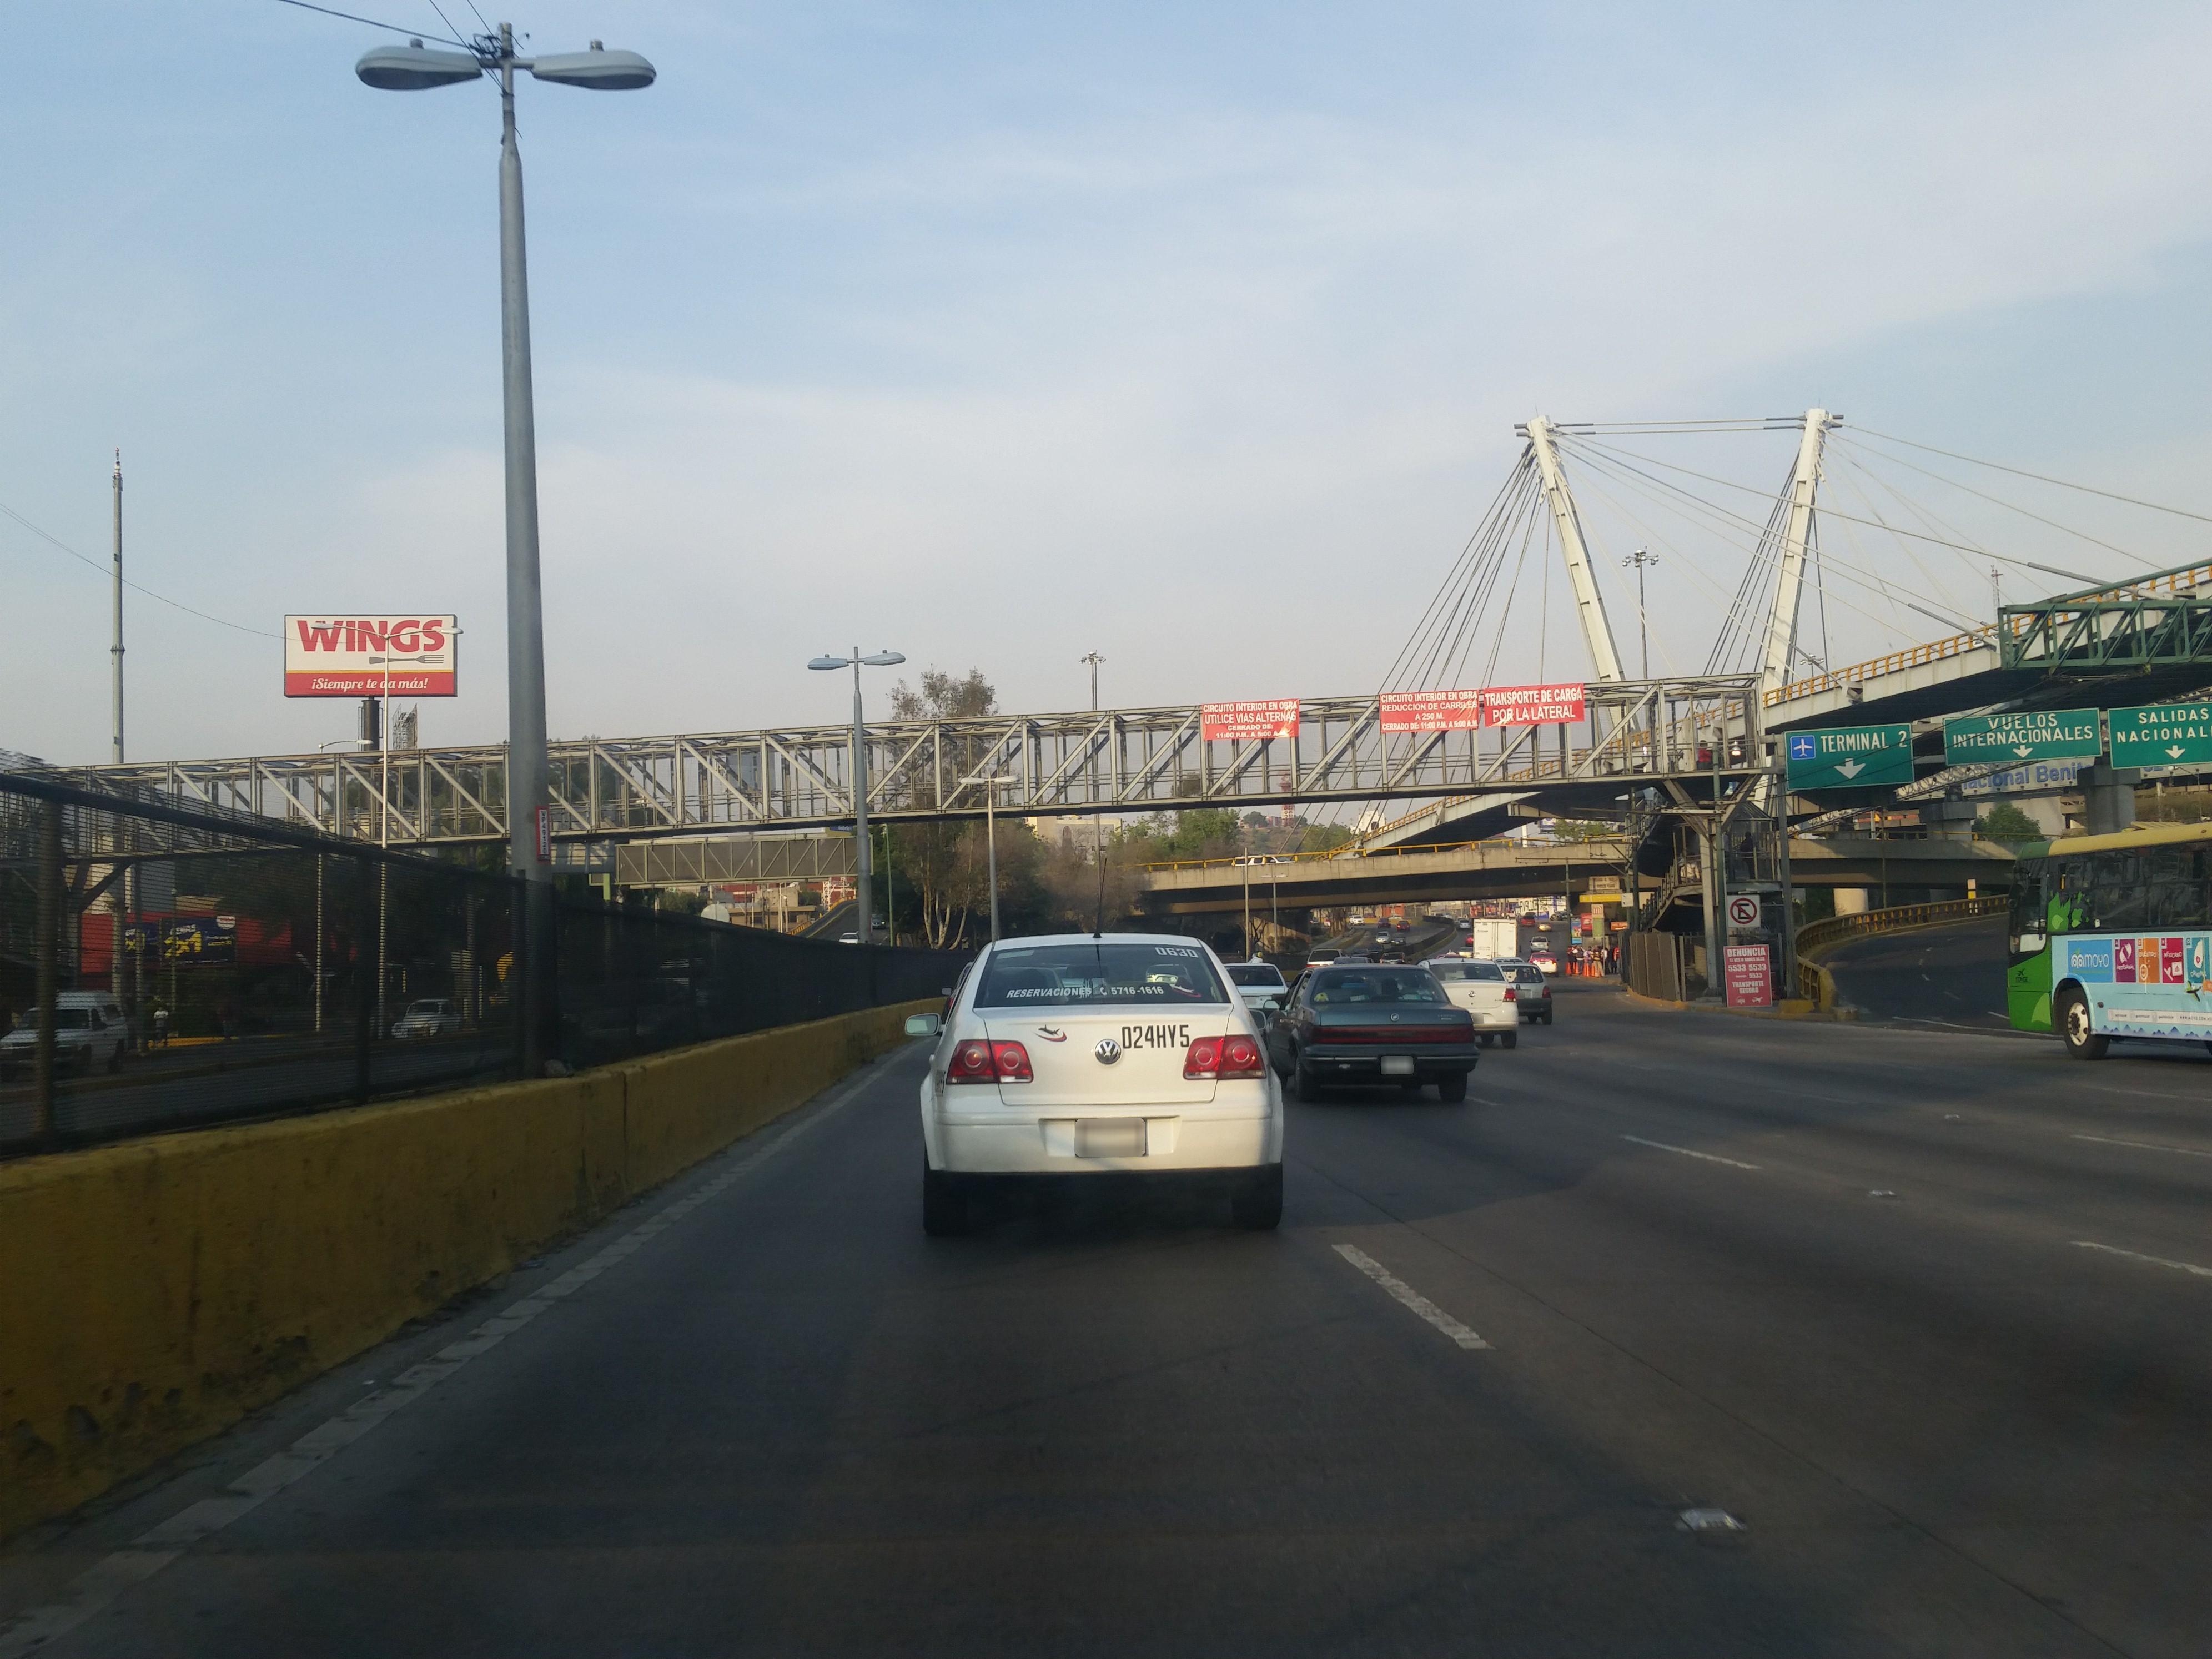vinyl banner: (1191, 685, 1301, 748), (1364, 676, 1484, 730), (1479, 680, 1590, 732)
